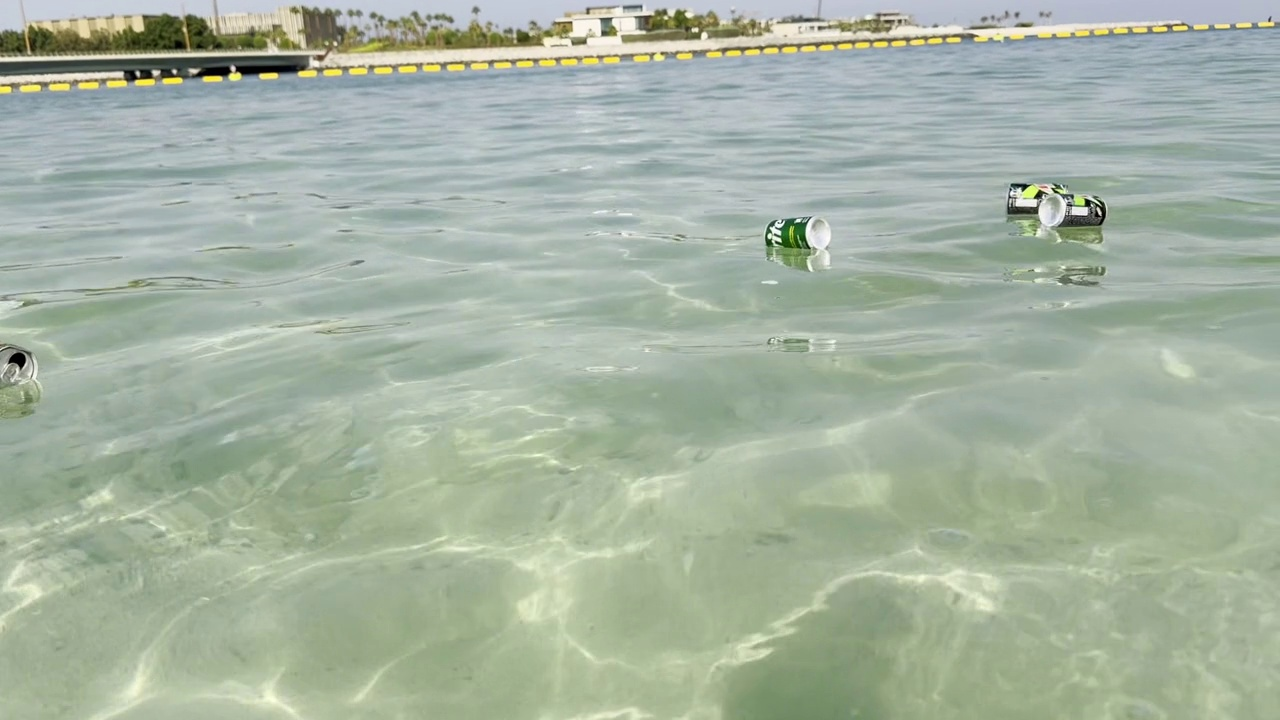debris: (1004, 177, 1077, 225), (1039, 186, 1113, 232), (761, 213, 835, 256), (0, 338, 43, 390)
